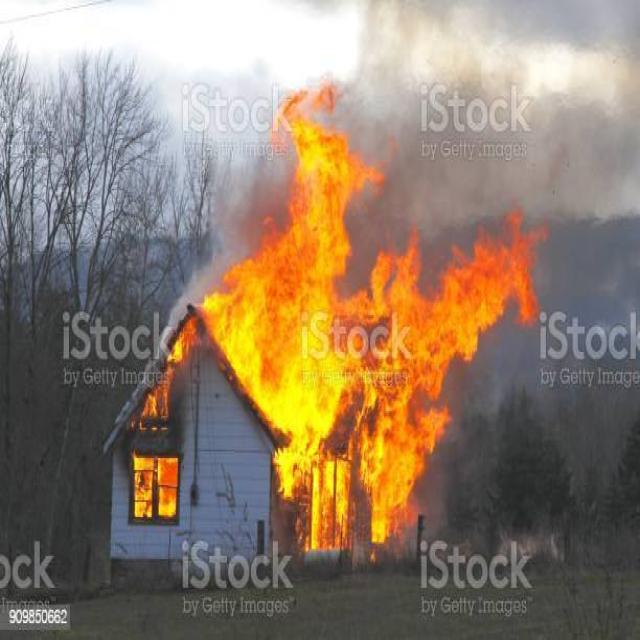Fire: (271, 253, 441, 554), (258, 90, 372, 247), (446, 222, 544, 352), (202, 252, 266, 416), (130, 312, 198, 432), (130, 451, 178, 525)
Smoke: (377, 16, 640, 201), (149, 12, 255, 245)
